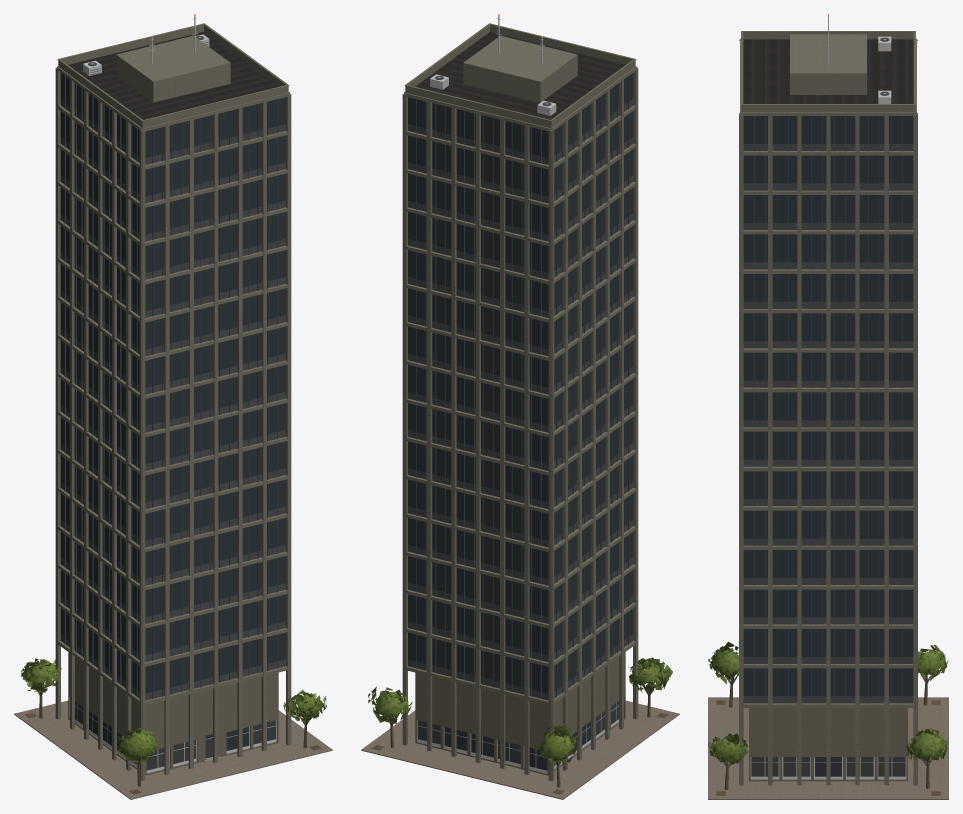
Rendered from sky_grid.glb.
3 views of the same model, side by side, from view 1: azimuth 30°, elevation 25°; view 2: azimuth 150°, elevation 25°; view 3: azimuth 270°, elevation 25° (orthographic). The views are drawn at different scales.
Visible parts, largest first — view 1: sky_grid_body, sky_grid_foliage; view 2: sky_grid_body, sky_grid_foliage; view 3: sky_grid_body, sky_grid_foliage.
Boxes of the visible parts, x1=… form: sky_grid_body: x1=14, y1=14, x2=332, y2=799; sky_grid_foliage: x1=21, y1=658, x2=326, y2=762; sky_grid_body: x1=361, y1=14, x2=679, y2=799; sky_grid_foliage: x1=368, y1=657, x2=672, y2=762; sky_grid_body: x1=708, y1=14, x2=948, y2=799; sky_grid_foliage: x1=708, y1=641, x2=948, y2=764.
Bounding box in the file's own units: 0.94 × 3.17 × 0.94.
17 materials, 9 textured.
